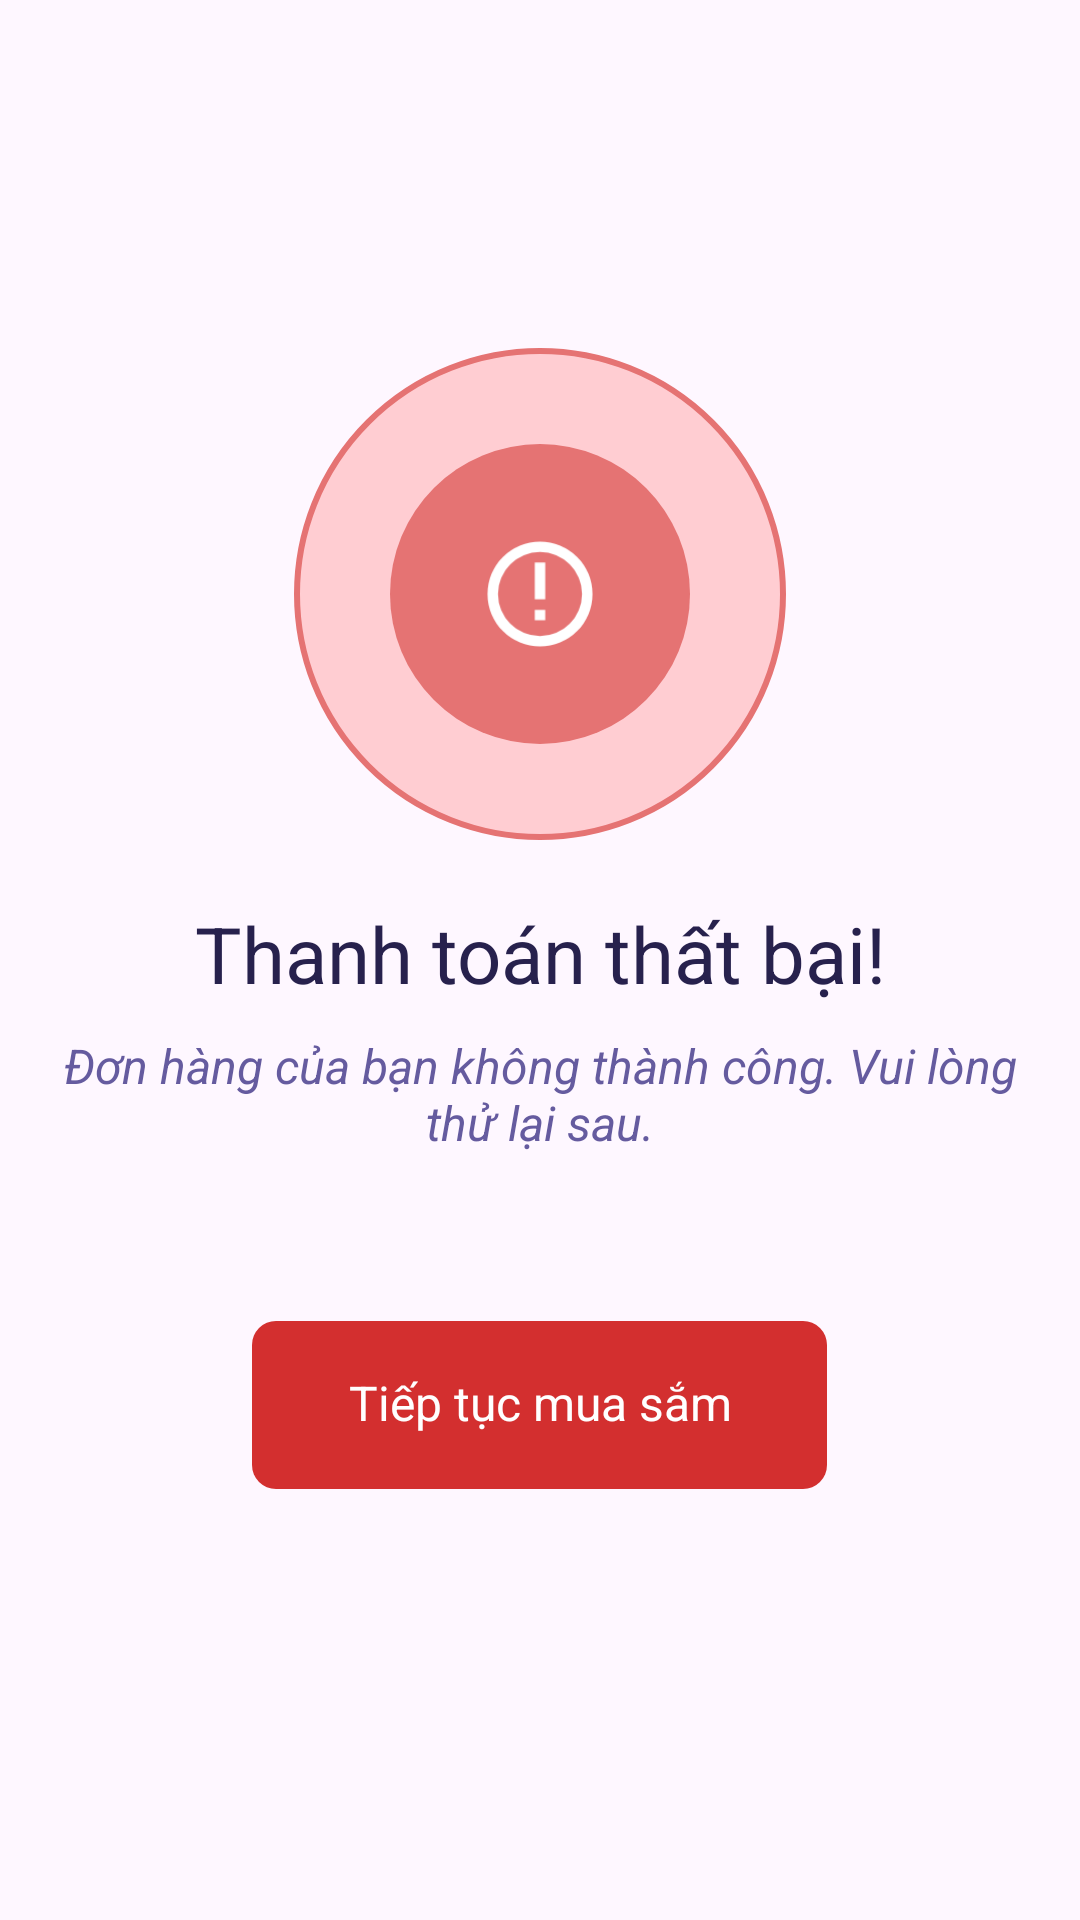

Screen size 1080*1920. Icon name, then its center in pixels as point (x, y):
payment fail error: point (540, 594)
